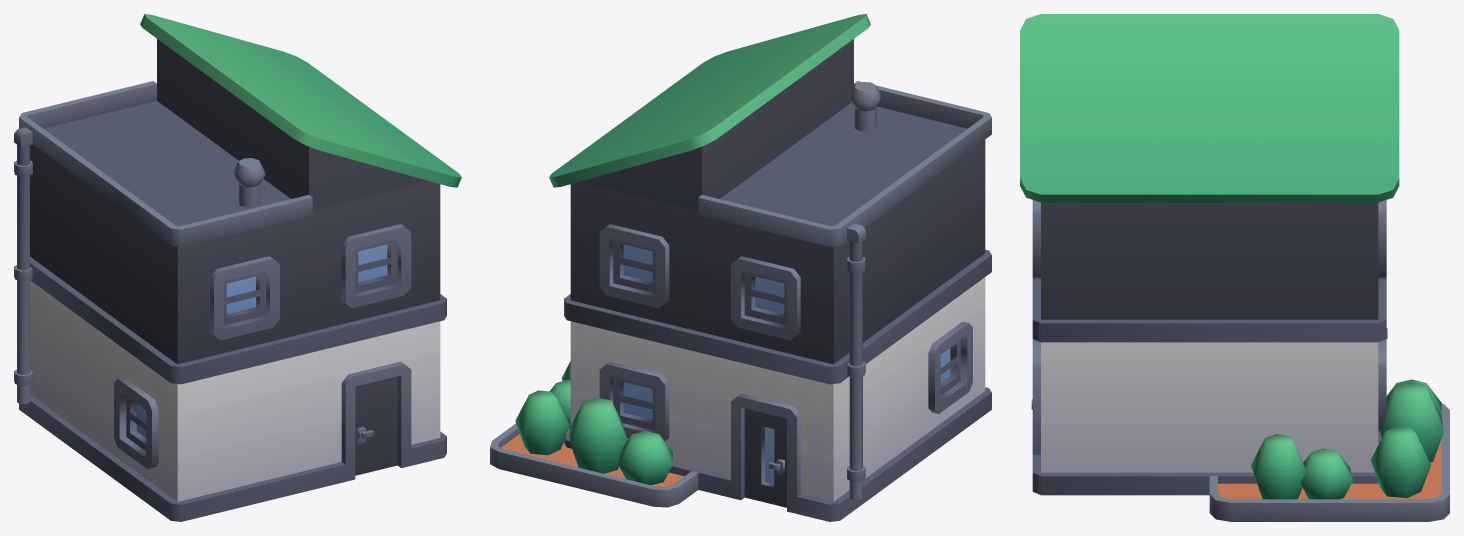
The model's file is house-l.glb.
3 renders of one model, left to right at view 1: azimuth 30°, elevation 25°; view 2: azimuth 150°, elevation 25°; view 3: azimuth 270°, elevation 25°, orthographic. The views are drawn at different scales.
Parts seen in each view (by area): view 1: building-type-l; view 2: building-type-l; view 3: building-type-l.
Part boxes in pixels (box(x1,y1,x2,y2)): building-type-l: box(14, 14, 461, 521); building-type-l: box(490, 14, 991, 521); building-type-l: box(1020, 14, 1449, 521).
Size of the model in its own units: 1.03 by 1.05 by 1.02.
Materials: 1 (1 with a texture image).
